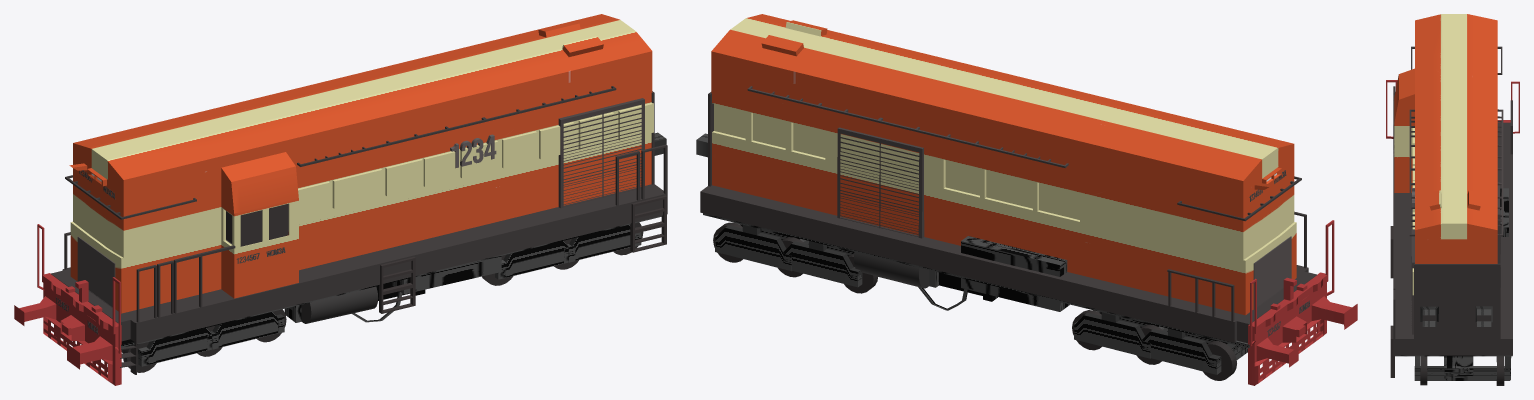
The model's file is train_loco.glb.
The picture shows the model from 3 angles, left to right: view 1: azimuth 30°, elevation 25°; view 2: azimuth 150°, elevation 25°; view 3: azimuth 270°, elevation 25°; orthographic projection. The views are drawn at different scales.
Visible parts, largest first — view 1: Object_5, Object_14, Object_10, Object_4, Object_13, Object_12, Object_6, Object_9, Object_18, Object_8, Object_15; view 2: Object_5, Object_14, Object_10, Object_4, Object_13, Object_18, Object_6, Object_9; view 3: Object_5, Object_14, Object_10, Object_13, Object_23, Object_18, Object_12, Object_4.
Part boxes in pixels (x1,y1,x2,y2): Object_5: (69, 14, 653, 313); Object_14: (51, 86, 667, 374); Object_10: (121, 215, 661, 366); Object_4: (14, 224, 121, 385); Object_13: (558, 98, 644, 208); Object_12: (226, 195, 666, 313); Object_6: (77, 236, 115, 307); Object_9: (301, 286, 378, 323); Object_18: (123, 222, 643, 372); Object_8: (450, 134, 496, 168); Object_15: (56, 170, 285, 334); Object_5: (711, 14, 1296, 315); Object_14: (700, 92, 1316, 343); Object_10: (703, 213, 1249, 374); Object_4: (1248, 220, 1357, 385); Object_13: (747, 86, 1068, 238); Object_18: (713, 222, 1236, 380); Object_6: (1253, 236, 1291, 309); Object_9: (854, 252, 929, 288); Object_5: (1394, 14, 1497, 295); Object_14: (1393, 46, 1512, 355); Object_10: (1395, 188, 1512, 380); Object_13: (1411, 109, 1503, 334); Object_23: (1420, 306, 1492, 326); Object_18: (1420, 356, 1504, 385); Object_12: (1390, 226, 1394, 377); Object_4: (1386, 80, 1519, 138).
Size of the model in its own units: 43.1 by 14.69 by 10.23.
12 materials, 2 textured.
